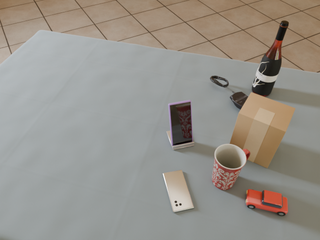bottle: (252, 21, 289, 97)
box: (230, 93, 295, 168)
cup: (212, 144, 251, 190)
mouse: (230, 91, 248, 110)
phone: (163, 170, 194, 212), (169, 100, 193, 146)
toy_car: (246, 189, 288, 216)
